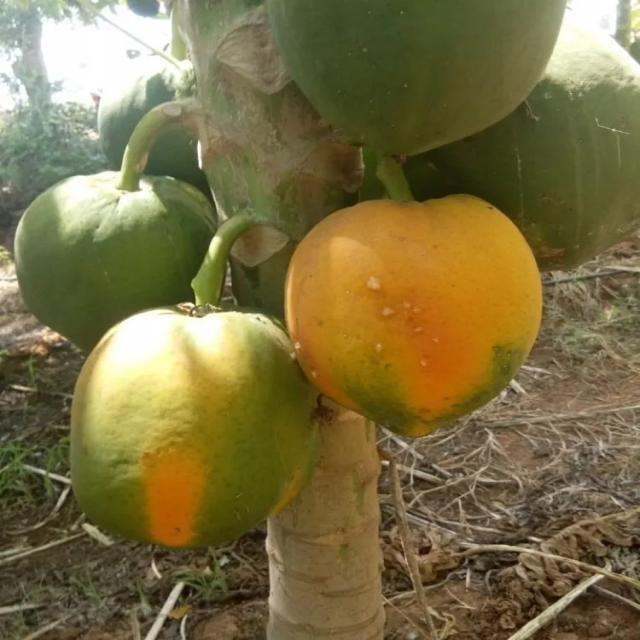Pepaya rippen: (283, 190, 553, 450), (62, 314, 314, 556)
Pepaya unrippen: (264, 5, 570, 168), (8, 166, 212, 324)
